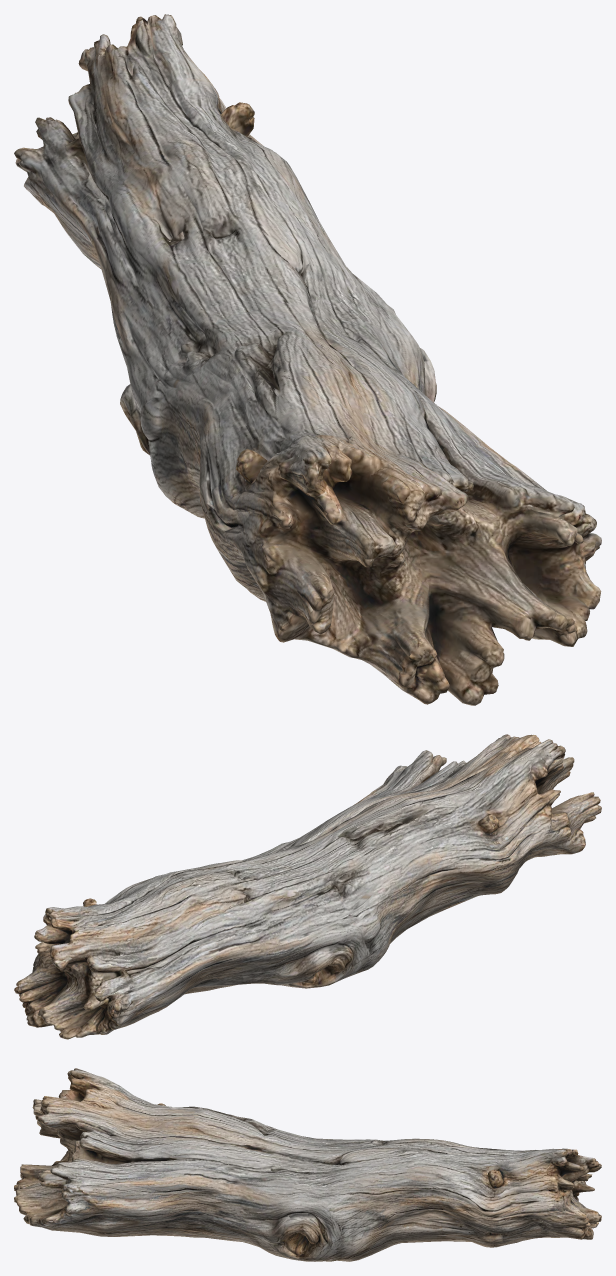
Rendered from SM_Driftwood.glb.
The picture shows the model from 3 angles, top to bottom: view 1: azimuth 30°, elevation 25°; view 2: azimuth 150°, elevation 25°; view 3: azimuth 270°, elevation 25°; orthographic projection. The views are drawn at different scales.
Parts seen in each view (by area): view 1: tripo_node_4e45e624-7e22-4216-95c5-82b73e236ef5; view 2: tripo_node_4e45e624-7e22-4216-95c5-82b73e236ef5; view 3: tripo_node_4e45e624-7e22-4216-95c5-82b73e236ef5.
Part boxes in pixels (bbox=[...]): tripo_node_4e45e624-7e22-4216-95c5-82b73e236ef5: bbox=[14, 14, 601, 705]; tripo_node_4e45e624-7e22-4216-95c5-82b73e236ef5: bbox=[14, 734, 601, 1039]; tripo_node_4e45e624-7e22-4216-95c5-82b73e236ef5: bbox=[14, 1068, 601, 1261].
Bounding box in the file's own units: 0.4099 × 0.2285 × 0.9775.
Materials: 1 (1 with a texture image).
